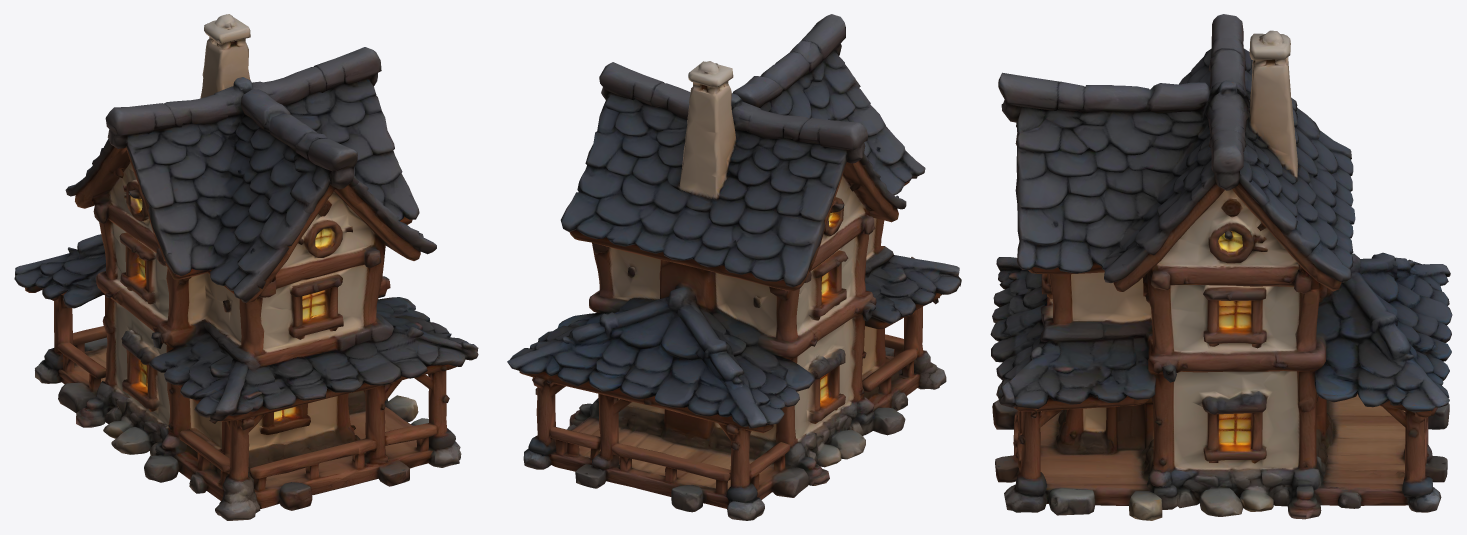
The model's file is townInn.glb.
3 views of the same model, side by side, from view 1: azimuth 30°, elevation 25°; view 2: azimuth 150°, elevation 25°; view 3: azimuth 270°, elevation 25° (orthographic). The views are drawn at different scales.
Visible parts, largest first — view 1: pb_node; view 2: pb_node; view 3: pb_node.
Boxes of the visible parts, bbox=[...] form: pb_node: bbox=[14, 14, 478, 520]; pb_node: bbox=[507, 14, 961, 520]; pb_node: bbox=[990, 14, 1452, 520].
Size of the model in its own units: 0.7322 by 1 by 0.9915.
Materials: 1 (1 with a texture image).
